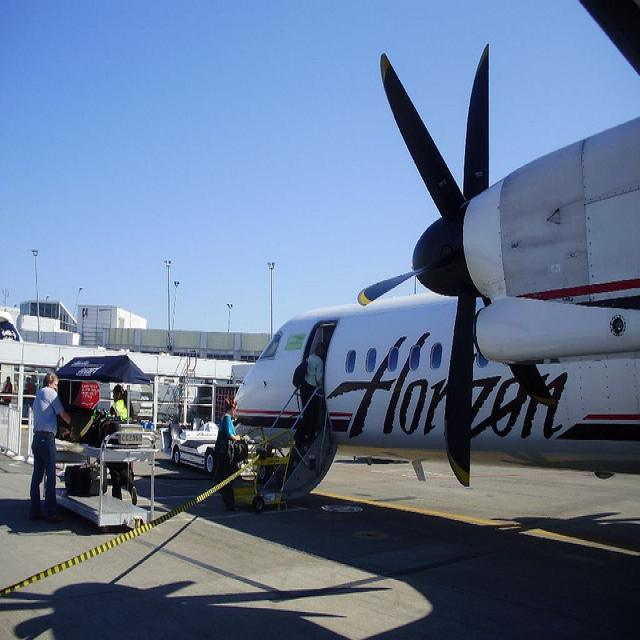Vehicle: (170, 417, 218, 476)
